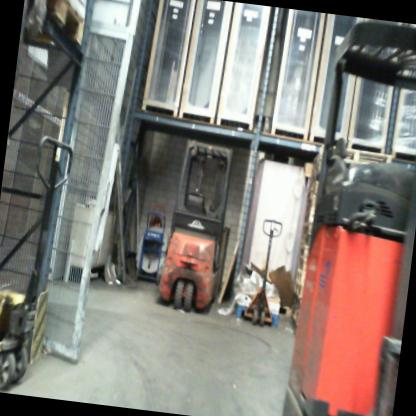forklift: (280, 15, 416, 416), (154, 136, 241, 317)
pallet: (32, 0, 91, 51), (322, 143, 396, 168), (233, 305, 280, 328), (290, 279, 304, 300), (294, 254, 306, 271), (299, 221, 313, 235), (299, 232, 311, 246), (294, 268, 306, 281), (290, 295, 301, 307), (296, 244, 308, 254)
pallet_truck: (0, 129, 76, 397), (241, 215, 285, 328)
